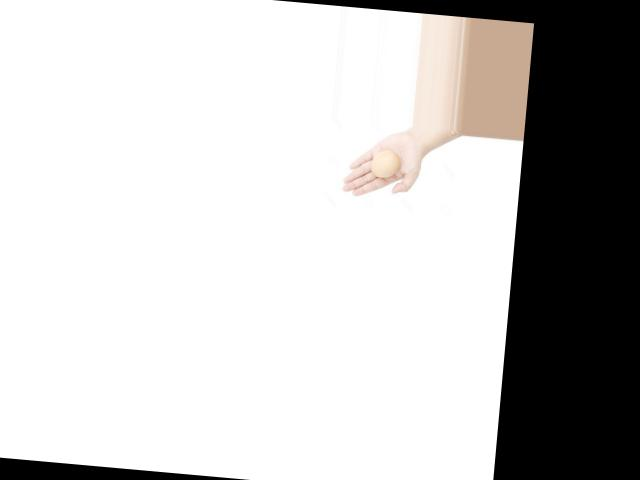egg: (371, 148, 402, 178)
